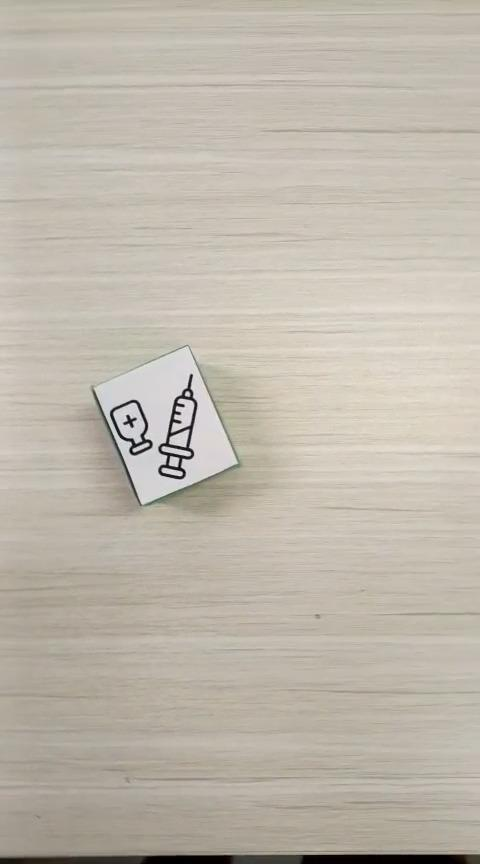antiseptic cream: (90, 344, 241, 508)
